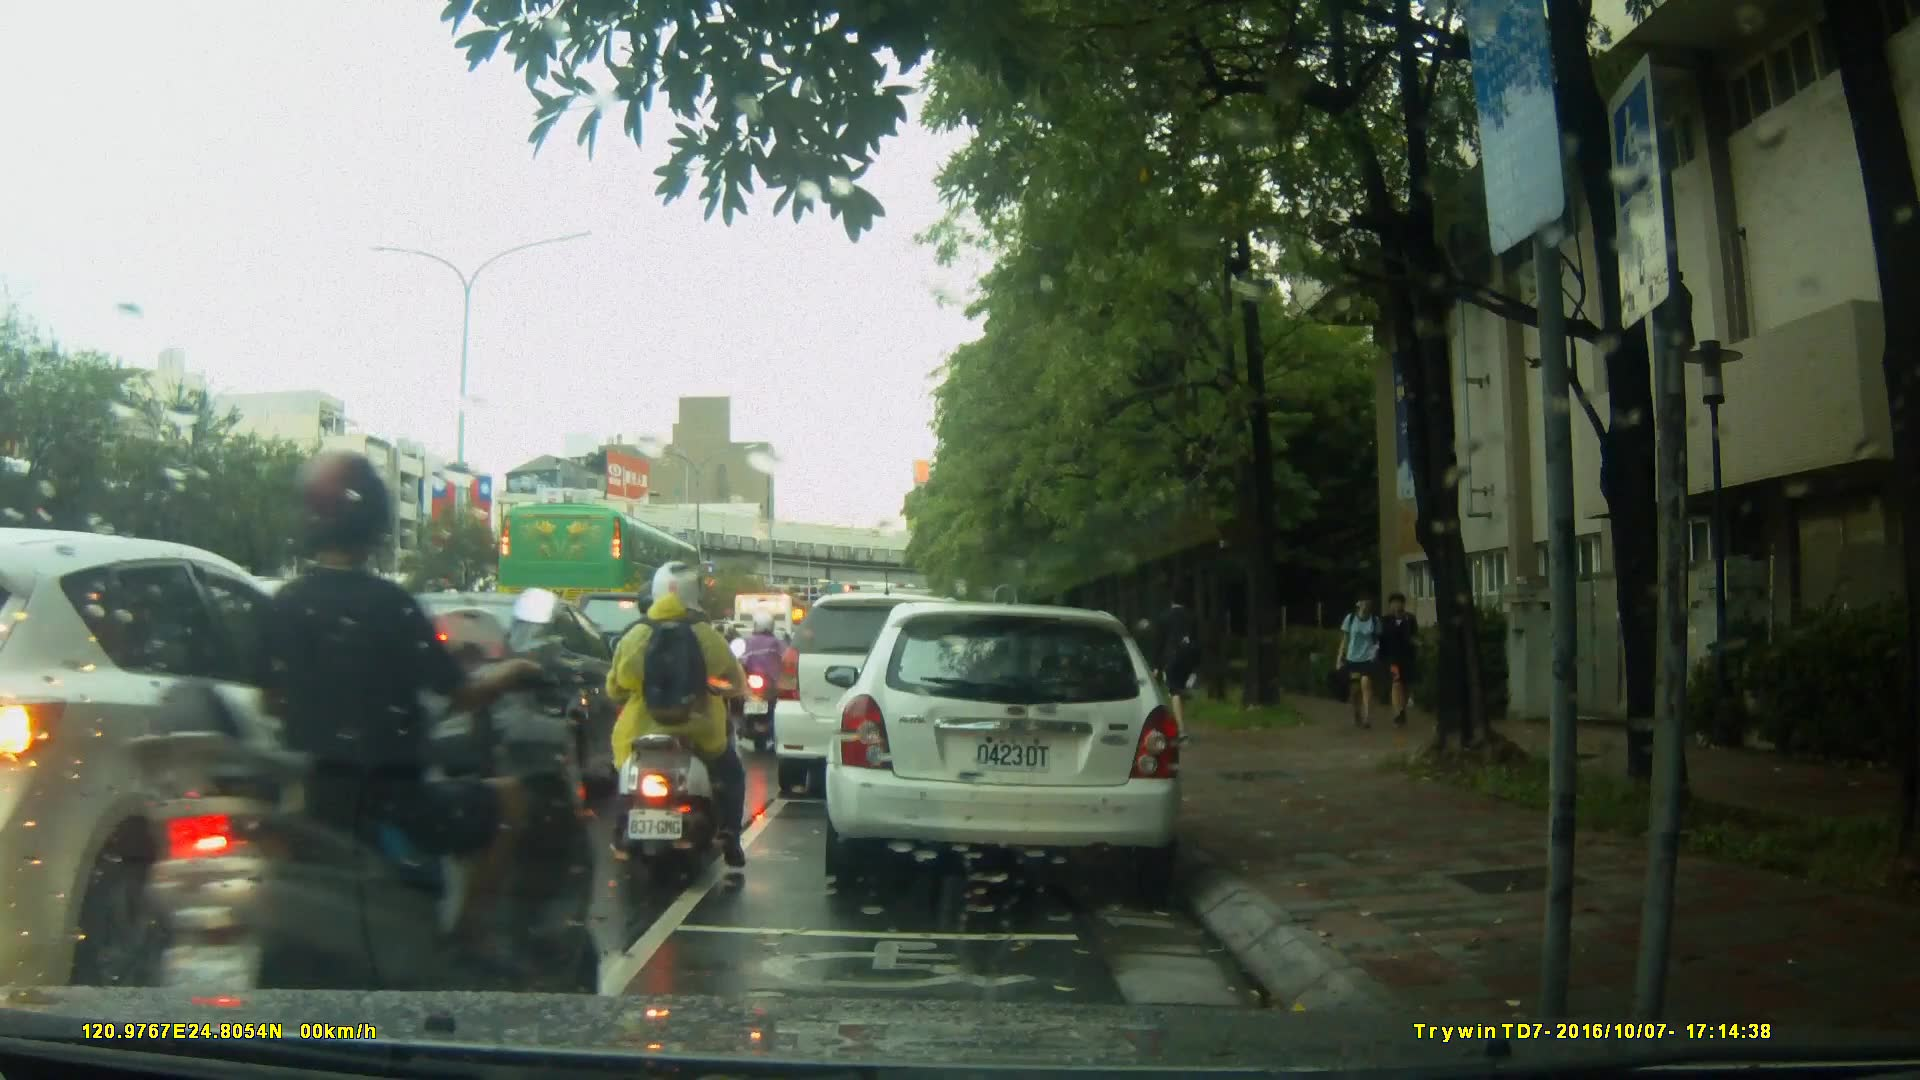pedestrian: (1150, 586, 1206, 750), (1323, 586, 1380, 737), (1377, 584, 1419, 733)
rider: (115, 447, 592, 1080), (610, 559, 756, 873), (736, 610, 797, 752)
vehicle: (1, 526, 437, 986), (831, 592, 1196, 897), (314, 592, 658, 802), (770, 592, 999, 800), (495, 502, 707, 640)
